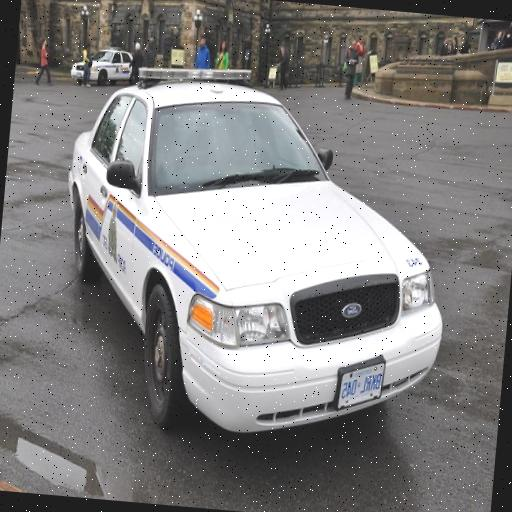Ambulance: (48, 56, 463, 452), (69, 42, 129, 94)
